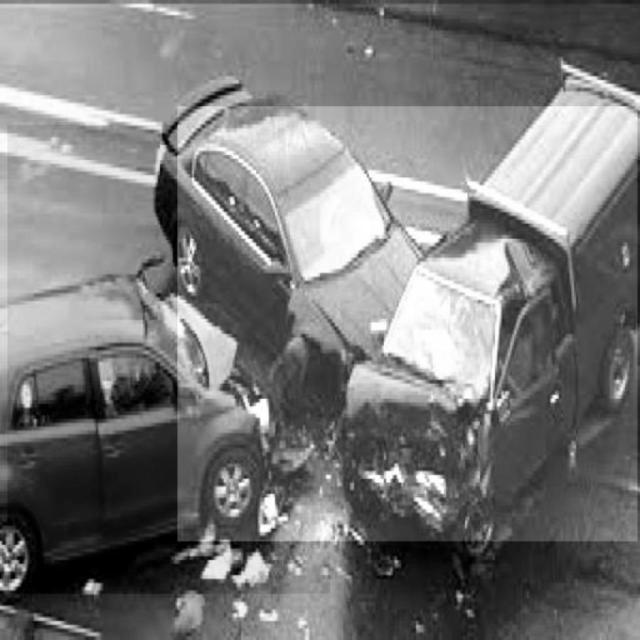accident: (178, 107, 638, 541), (8, 125, 330, 593)
